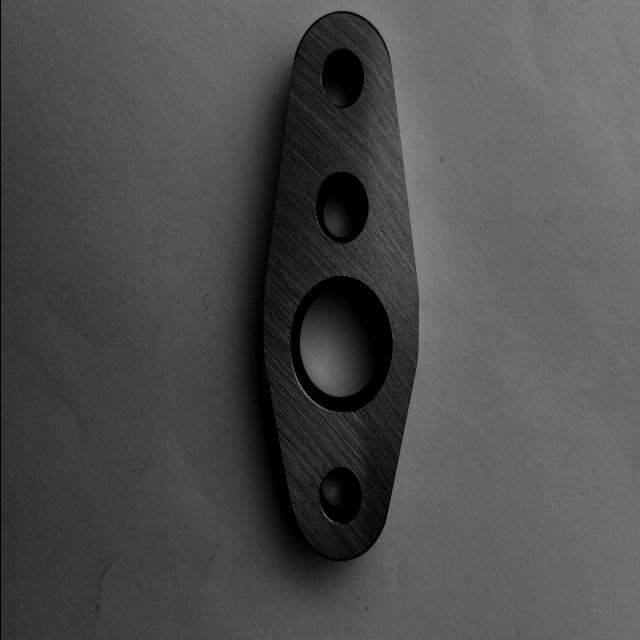chap: (267, 312, 273, 320), (303, 41, 308, 50)
lines: (377, 227, 387, 240)
